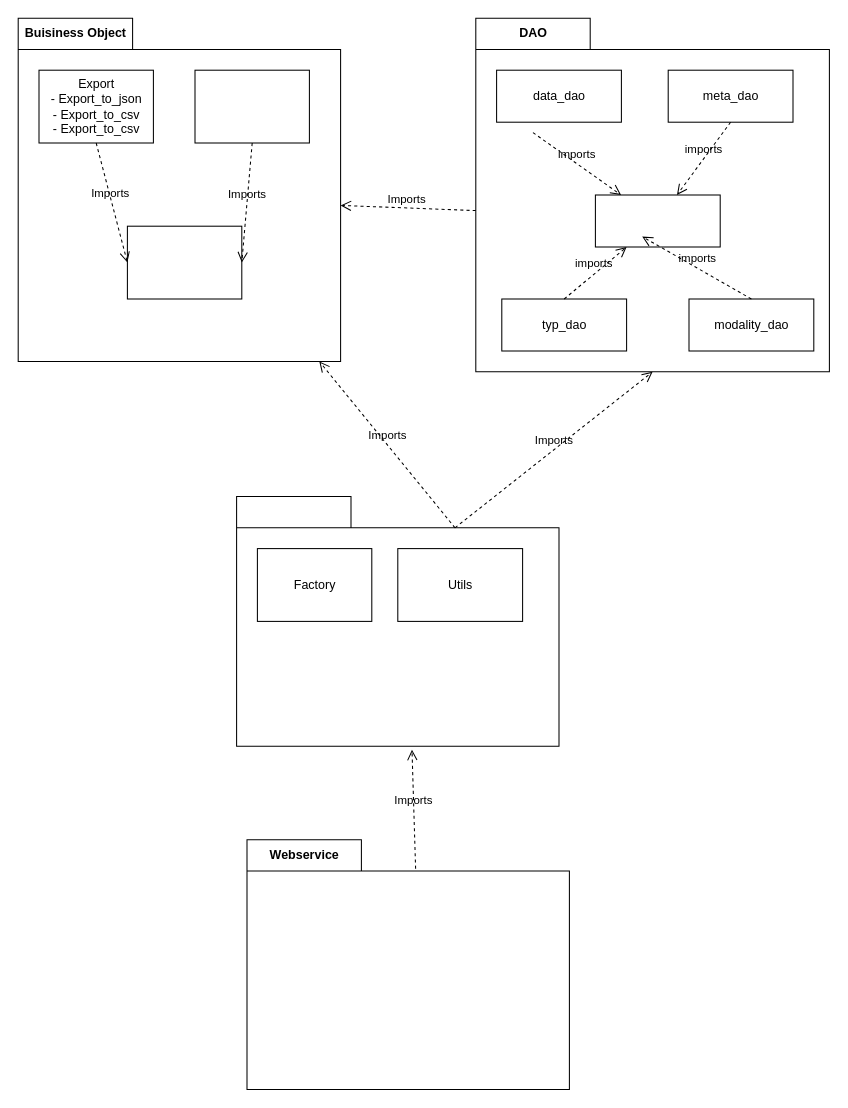
The diagram is 848 pixels wide and 1108 high, and some of its shapes have lost their labels. Here are the shapes that lost their labels. From the top down, the box of each, then its label:
(194, 69, 309, 143): Import - import_json
(594, 194, 720, 247): db_connection
(126, 225, 242, 299): regle_generation - generation_donnee
(236, 496, 559, 746): Service
